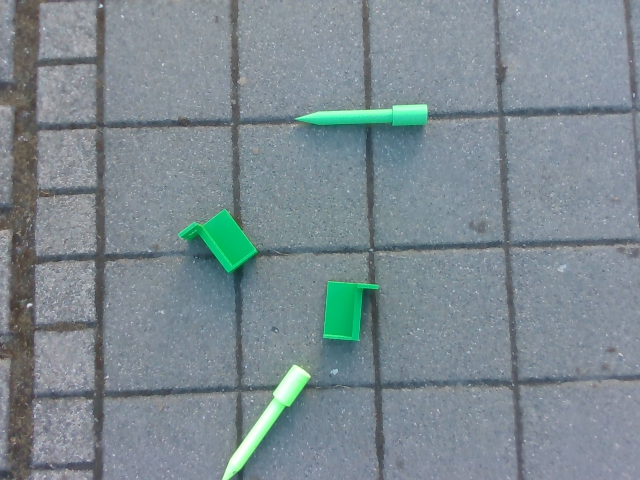Probe: (221, 360, 313, 480), (288, 98, 434, 131)
